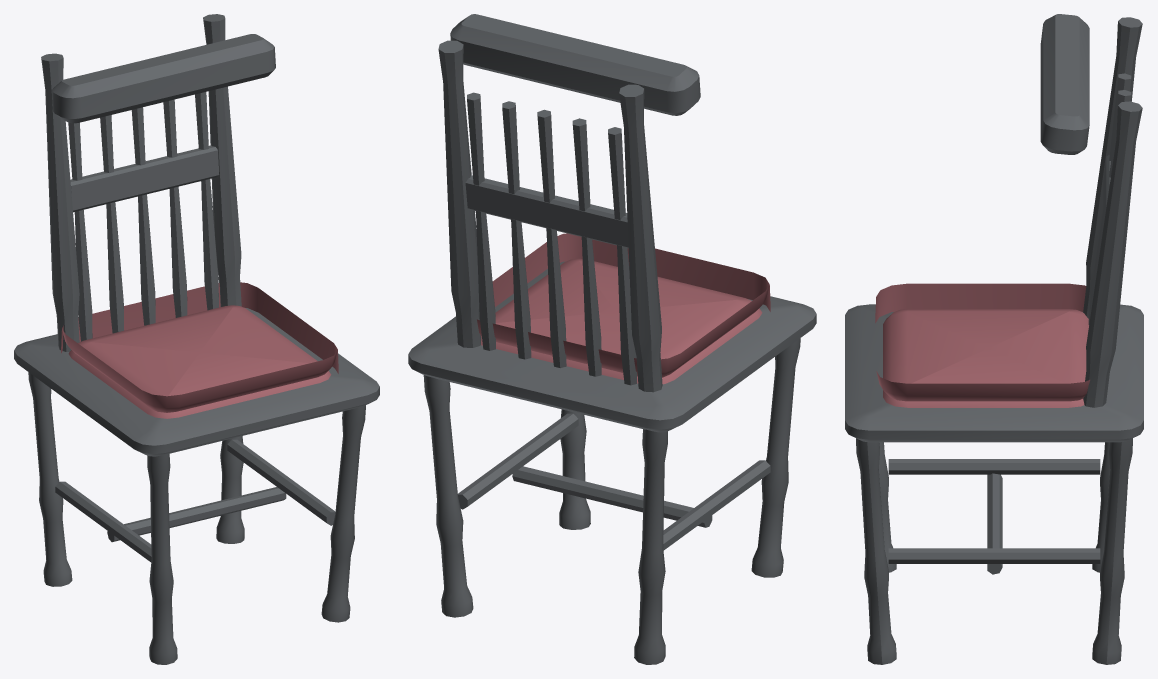
File: bar-pub-and-brewery-taproom-spindle-back-chair-ebonise-887ddb6d__18398.glb
The picture shows the model from 3 angles, left to right: view 1: azimuth 30°, elevation 25°; view 2: azimuth 150°, elevation 25°; view 3: azimuth 270°, elevation 25°; orthographic projection. The views are drawn at different scales.
Parts seen in each view (by area): view 1: spindle-back-chair-ebonised; view 2: spindle-back-chair-ebonised; view 3: spindle-back-chair-ebonised.
Boxes of the visible parts, x1,y1,x2,y2 form: spindle-back-chair-ebonised: (14, 14, 379, 664); spindle-back-chair-ebonised: (408, 14, 816, 664); spindle-back-chair-ebonised: (845, 14, 1143, 664).
Bounding box in the file's own units: 0.4799 × 0.976 × 0.4799.
